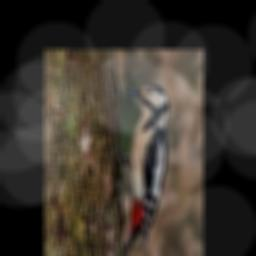Woodpecker: (109, 83, 168, 256)
